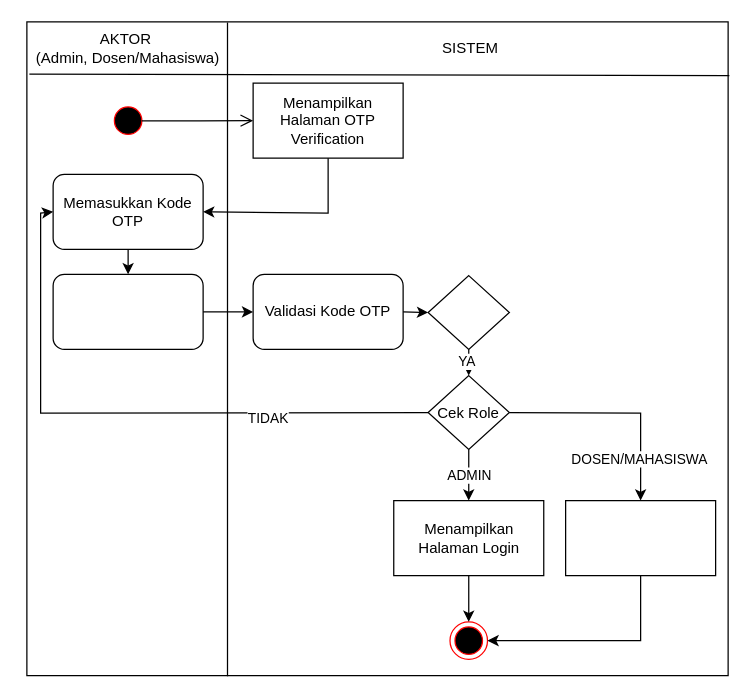
Image size: 753x700. Some labels were removed from this diagram. Here are the shapes that lost their labels. From the top down, the box of each, then its label:
(52, 273, 203, 349): Mengklik Tombol Verifikasi
(564, 499, 716, 576): Menampilkan Halaman Forum Diskusi
